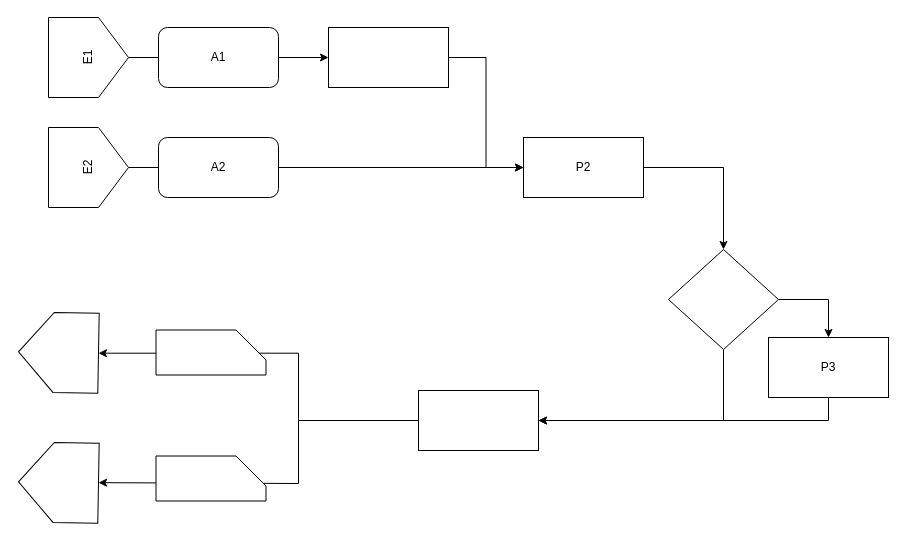
Image size: 906x541. Some labels were removed from this diagram. Here are the shapes that lost their labels. From the top down, the centre of each, then its label:
At (388,57): "P1".
At (723,299): "D1".
At (478,420): "P4".
